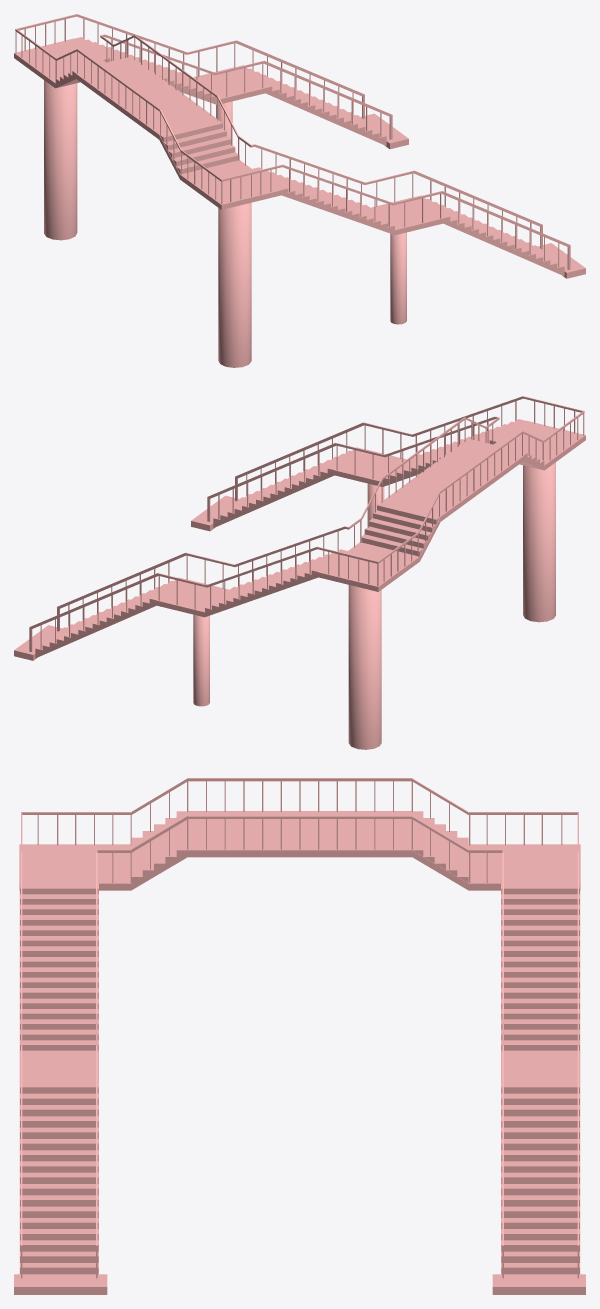
File: passerelles_lod0.fbx
3 renders of one model, top to bottom at view 1: azimuth 30°, elevation 25°; view 2: azimuth 150°, elevation 25°; view 3: azimuth 270°, elevation 25°, orthographic. The views are drawn at different scales.
Parts seen in each view (by area): view 1: passerelle_2_voie_lod0; view 2: passerelle_2_voie_lod0; view 3: passerelle_2_voie_lod0.
Boxes of the visible parts, x1,y1,x2,y2 form: passerelle_2_voie_lod0: (14,14,585,367); passerelle_2_voie_lod0: (14,396,585,749); passerelle_2_voie_lod0: (14,778,585,1294).
Size of the model in its own units: 1514 by 897 by 1530.
